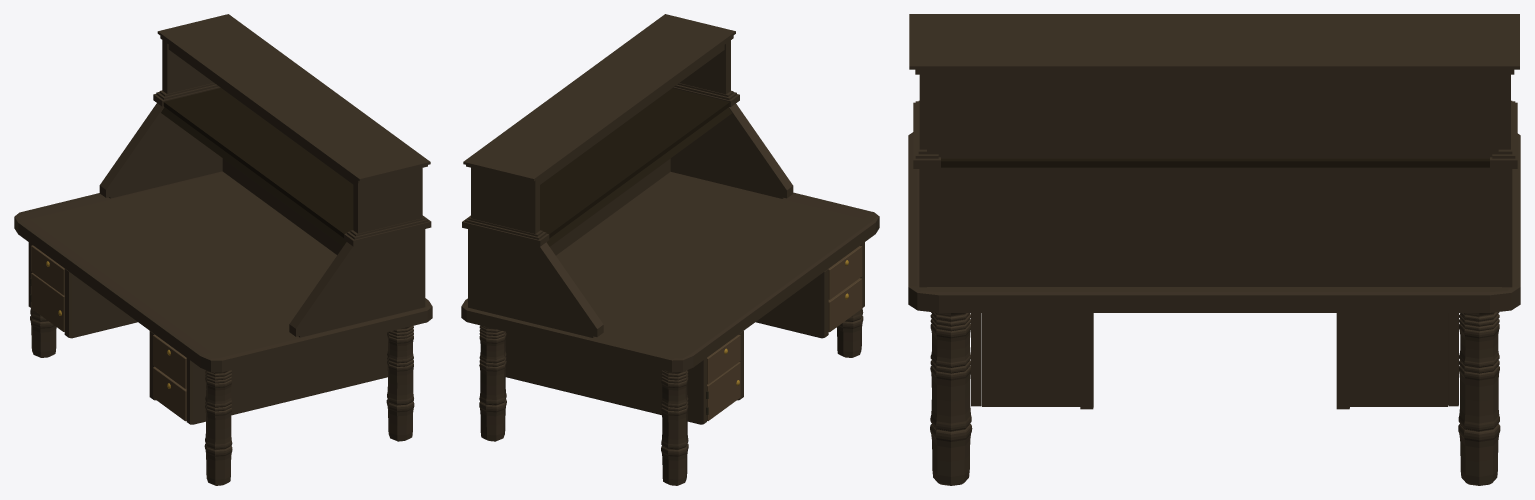
File: magicDesk_comb.fbx
3 views of the same model, side by side, from view 1: azimuth 30°, elevation 25°; view 2: azimuth 150°, elevation 25°; view 3: azimuth 270°, elevation 25° (orthographic). The views are drawn at different scales.
Visible parts, largest first — view 1: Cube.008; view 2: Cube.008; view 3: Cube.008.
Boxes of the visible parts, left/top/right/bottom form: Cube.008: left=14, top=14, right=432, bottom=485; Cube.008: left=461, top=14, right=879, bottom=485; Cube.008: left=908, top=14, right=1520, bottom=485.
Size of the model in its own units: 206 by 240 by 312.
